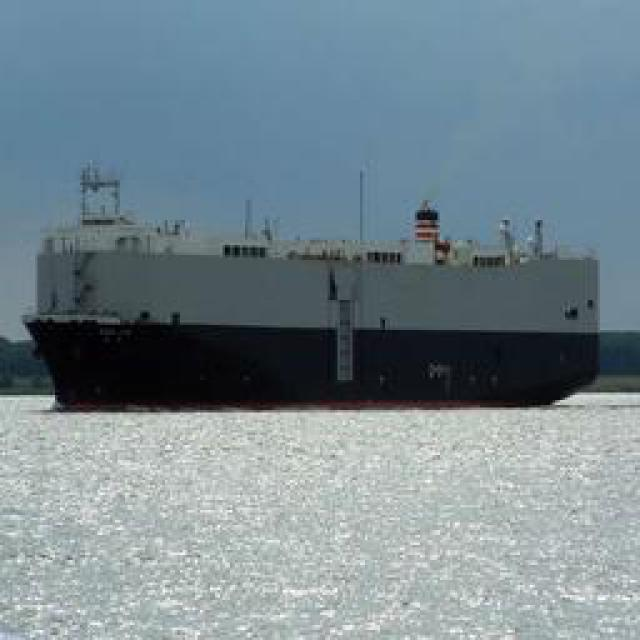Ship: (23, 164, 598, 407)
